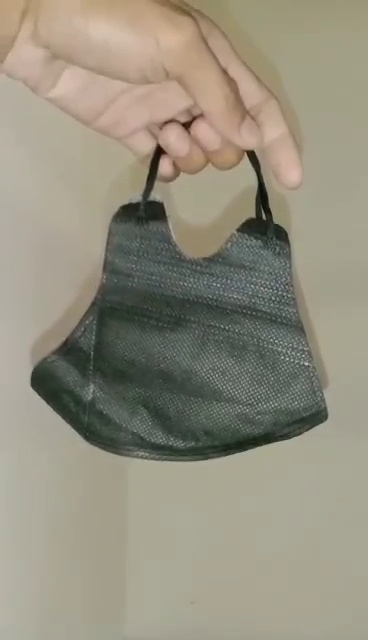facemask: (33, 126, 330, 460)
hand: (30, 4, 306, 191)
